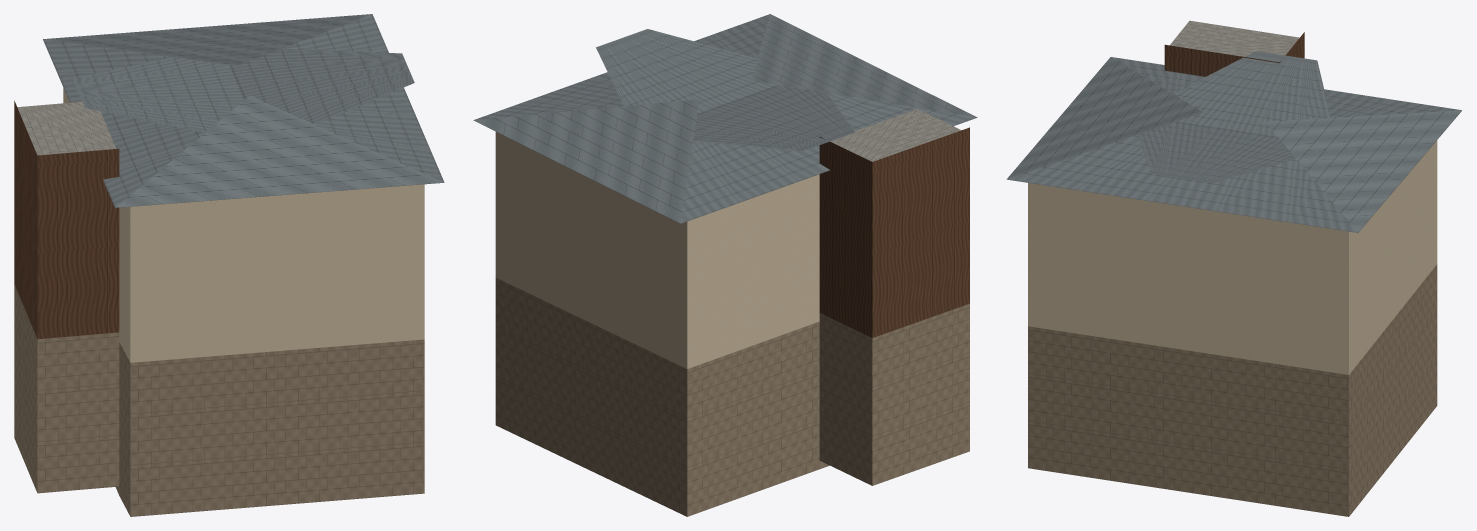
The model's file is bld_c2_17_471.gltf.
3 views of the same model, side by side, from view 1: azimuth 30°, elevation 25°; view 2: azimuth 150°, elevation 25°; view 3: azimuth 270°, elevation 25° (orthographic). The views are drawn at different scales.
Visible parts, largest first — view 1: bld_c2_17_471; view 2: bld_c2_17_471; view 3: bld_c2_17_471.
Part boxes in pixels (box(x1,y1,x2,y2)): bld_c2_17_471: box(14, 14, 444, 516); bld_c2_17_471: box(473, 14, 977, 516); bld_c2_17_471: box(1006, 20, 1461, 516).
Size of the model in its own units: 14.77 by 11.5 by 14.85.
6 materials, 6 textured.
